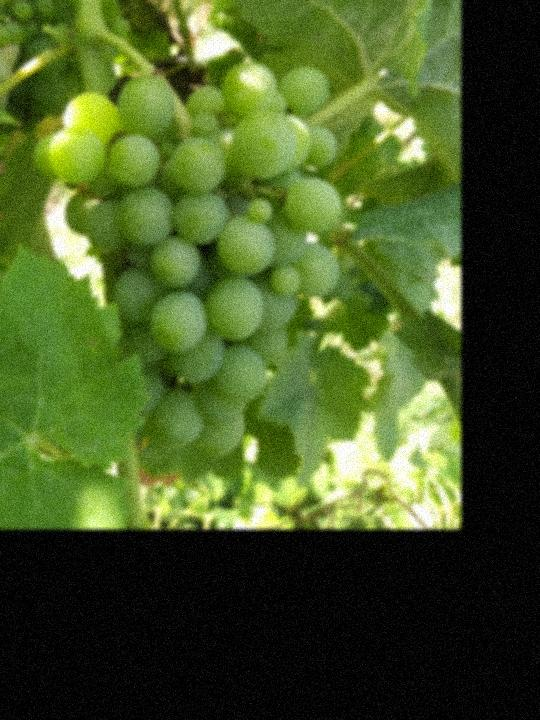grape: (31, 61, 342, 460)
